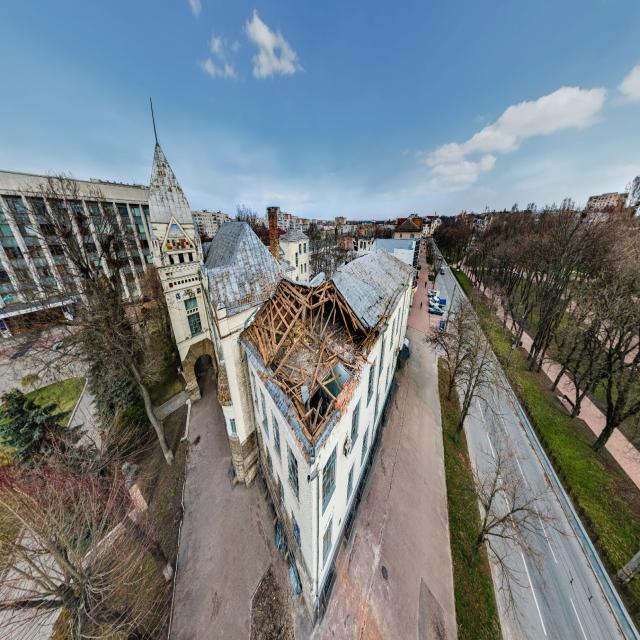building: (237, 245, 415, 625)
roof: (204, 218, 284, 319), (330, 246, 415, 336)
